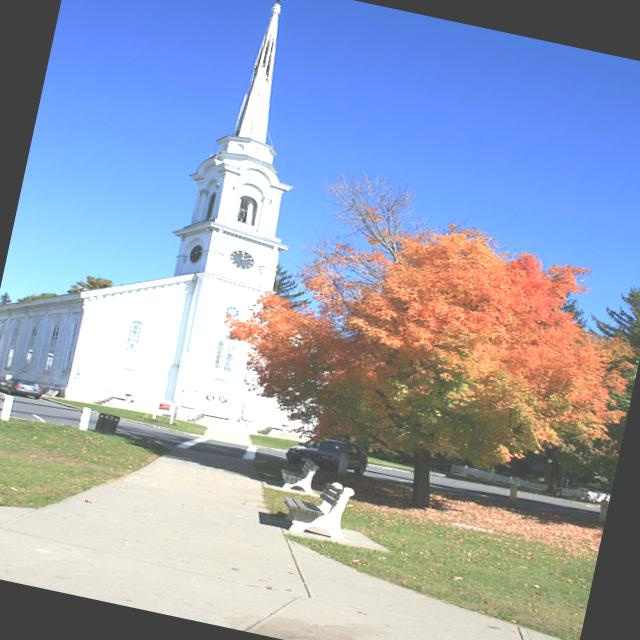Vehicle: (284, 428, 371, 478), (0, 374, 43, 400)
